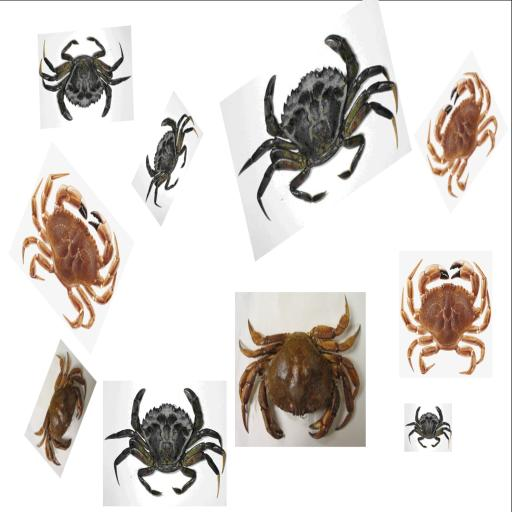green crab: (232, 14, 416, 224), (102, 371, 226, 504), (34, 11, 130, 131), (138, 106, 208, 215), (403, 397, 455, 455)
joe crab: (8, 144, 134, 340), (399, 247, 499, 380), (422, 64, 499, 196)
rock crab: (238, 292, 366, 443), (23, 351, 91, 469)
